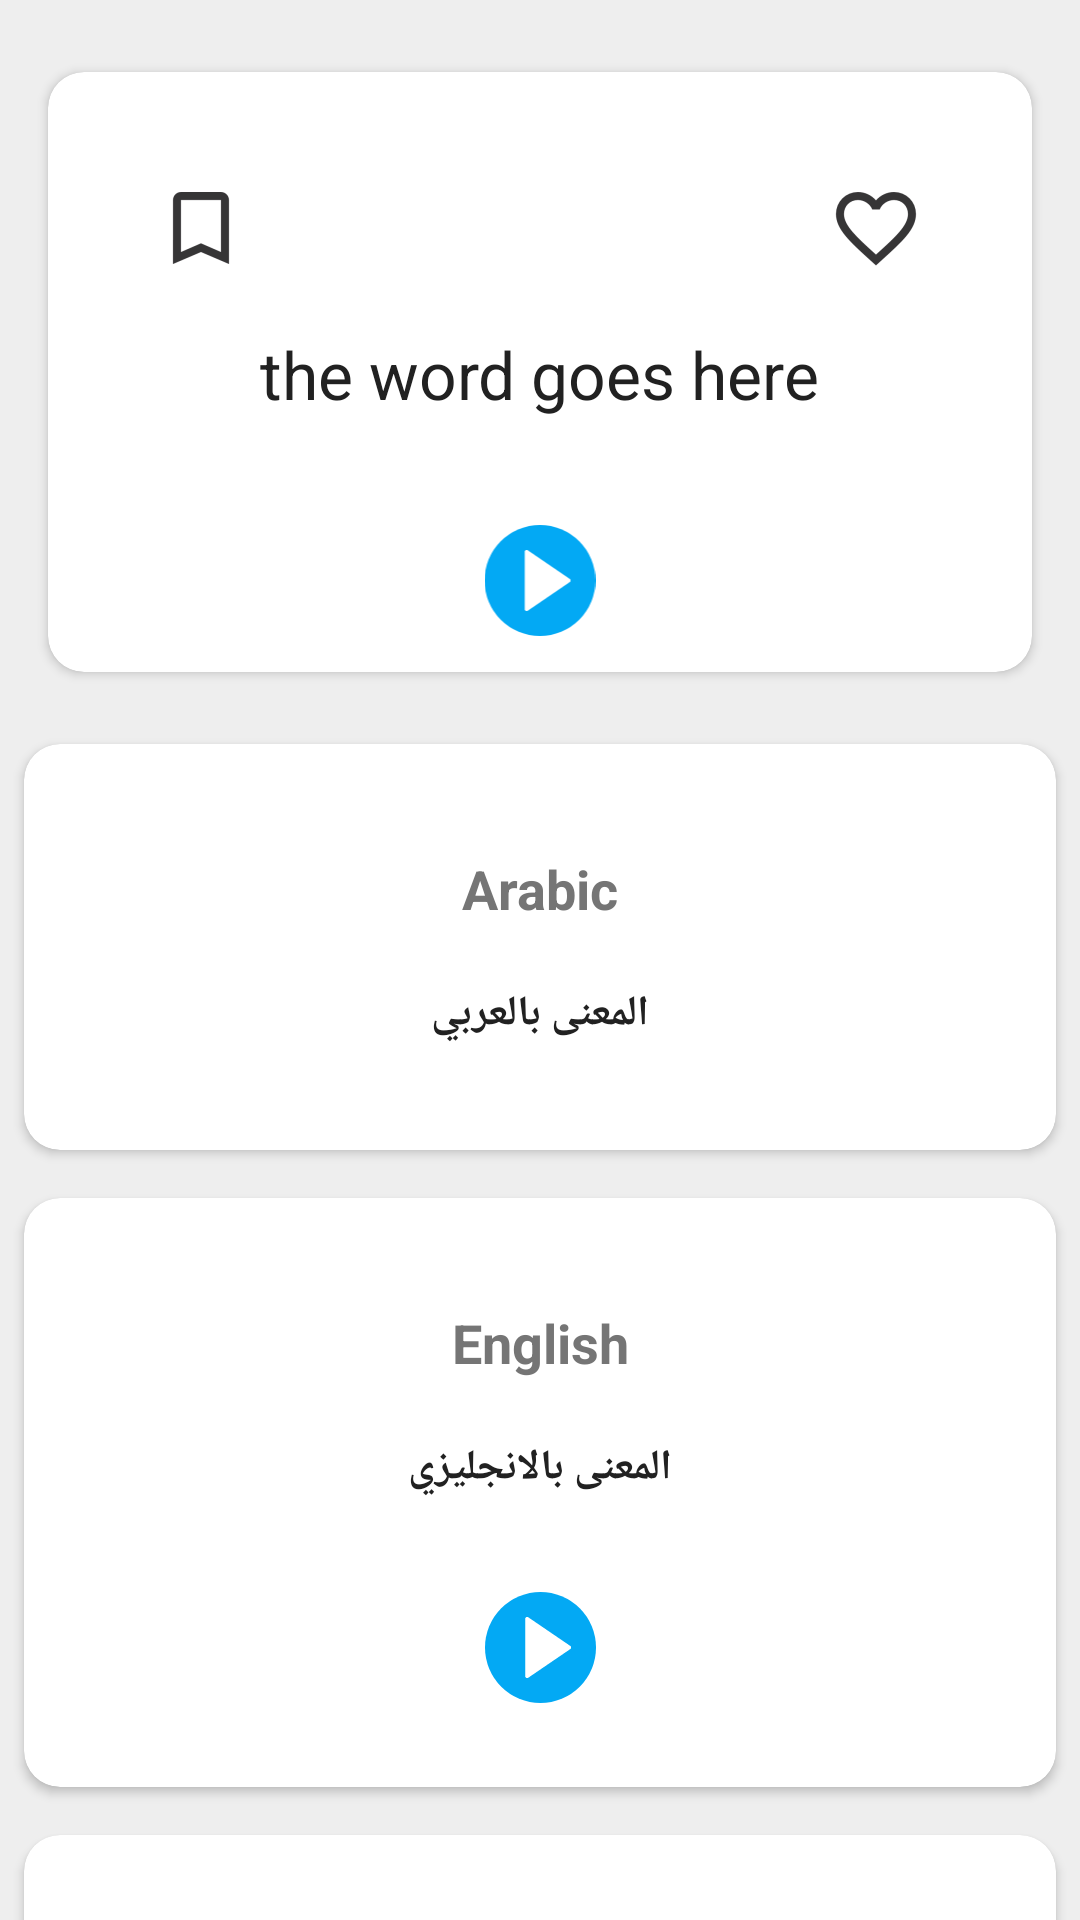

Point at icon controls on the screen. Image size 1080 x 1920, points as point (x, y).
addto favorite: point (876, 229)
bookmark: point (201, 228)
play: point (540, 580), point (540, 1647)
